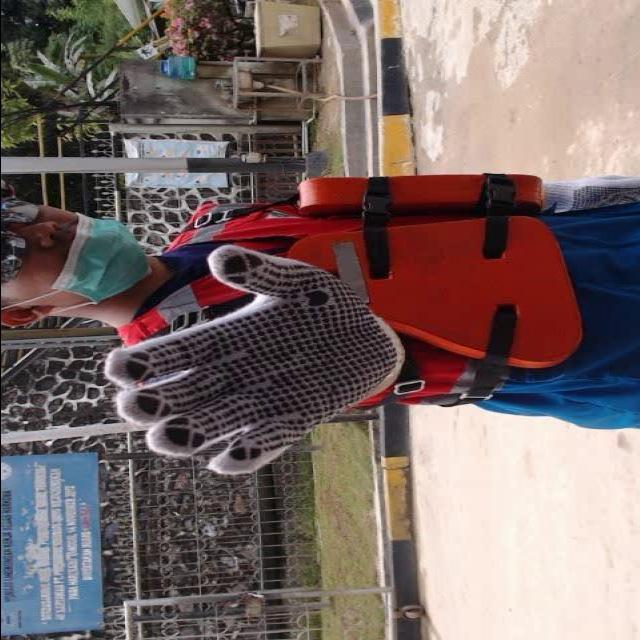jacket: (107, 152, 593, 458)
